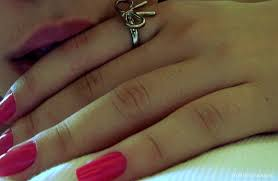hand: (6, 18, 261, 177)
